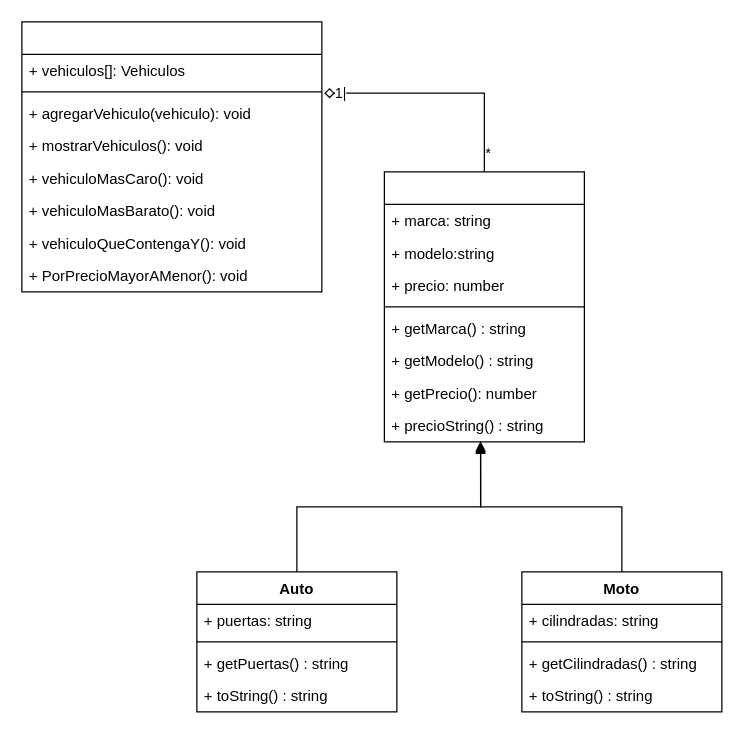
The diagram is 744 pixels wide and 738 high, and some of its shapes have lost their labels. Each missing label, with the box of its shape:
Concesionaria: (21, 21, 322, 292)
Vehiculo: (383, 171, 584, 442)
